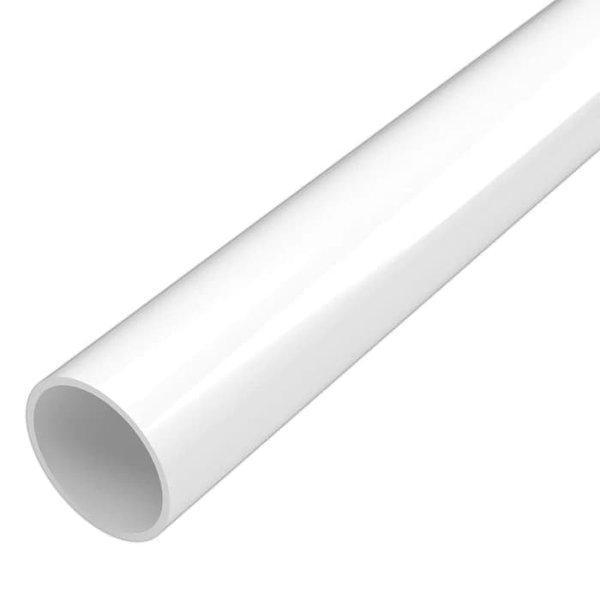PVC: (33, 241, 484, 540)
